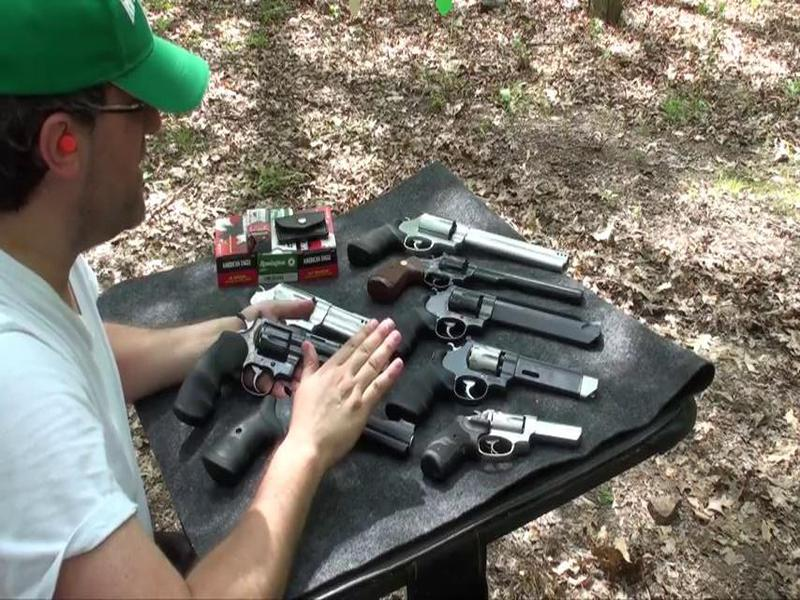Revolver: (174, 306, 355, 417)
